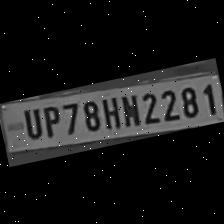1: (195, 77, 221, 116)
2: (154, 84, 181, 123), (134, 88, 160, 127)
7: (56, 98, 82, 136)
8: (75, 96, 103, 134), (172, 82, 200, 120)
H: (96, 91, 122, 130)
N: (116, 90, 142, 129)
P: (36, 100, 64, 140)
U: (16, 103, 44, 141)
